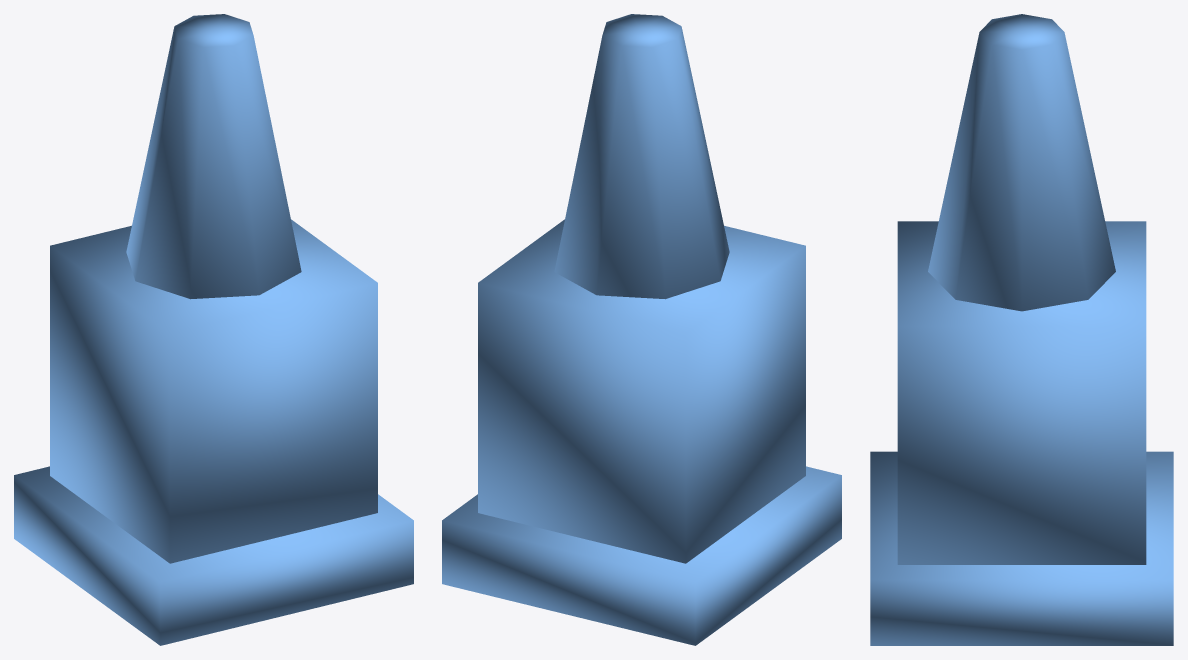
The model's file is shaper-hunter-mana-gauntlet.glb.
The picture shows the model from 3 angles, left to right: view 1: azimuth 30°, elevation 25°; view 2: azimuth 150°, elevation 25°; view 3: azimuth 270°, elevation 25°; orthographic projection. The views are drawn at different scales.
Visible parts, largest first — view 1: shaper-hunter-mana-gauntlet; view 2: shaper-hunter-mana-gauntlet; view 3: shaper-hunter-mana-gauntlet.
Part boxes in pixels (<box>): shaper-hunter-mana-gauntlet: <box>14,14,413,645</box>; shaper-hunter-mana-gauntlet: <box>442,14,841,645</box>; shaper-hunter-mana-gauntlet: <box>870,14,1173,645</box>.
Bounding box in the file's own units: 0.16 × 0.32 × 0.16.
